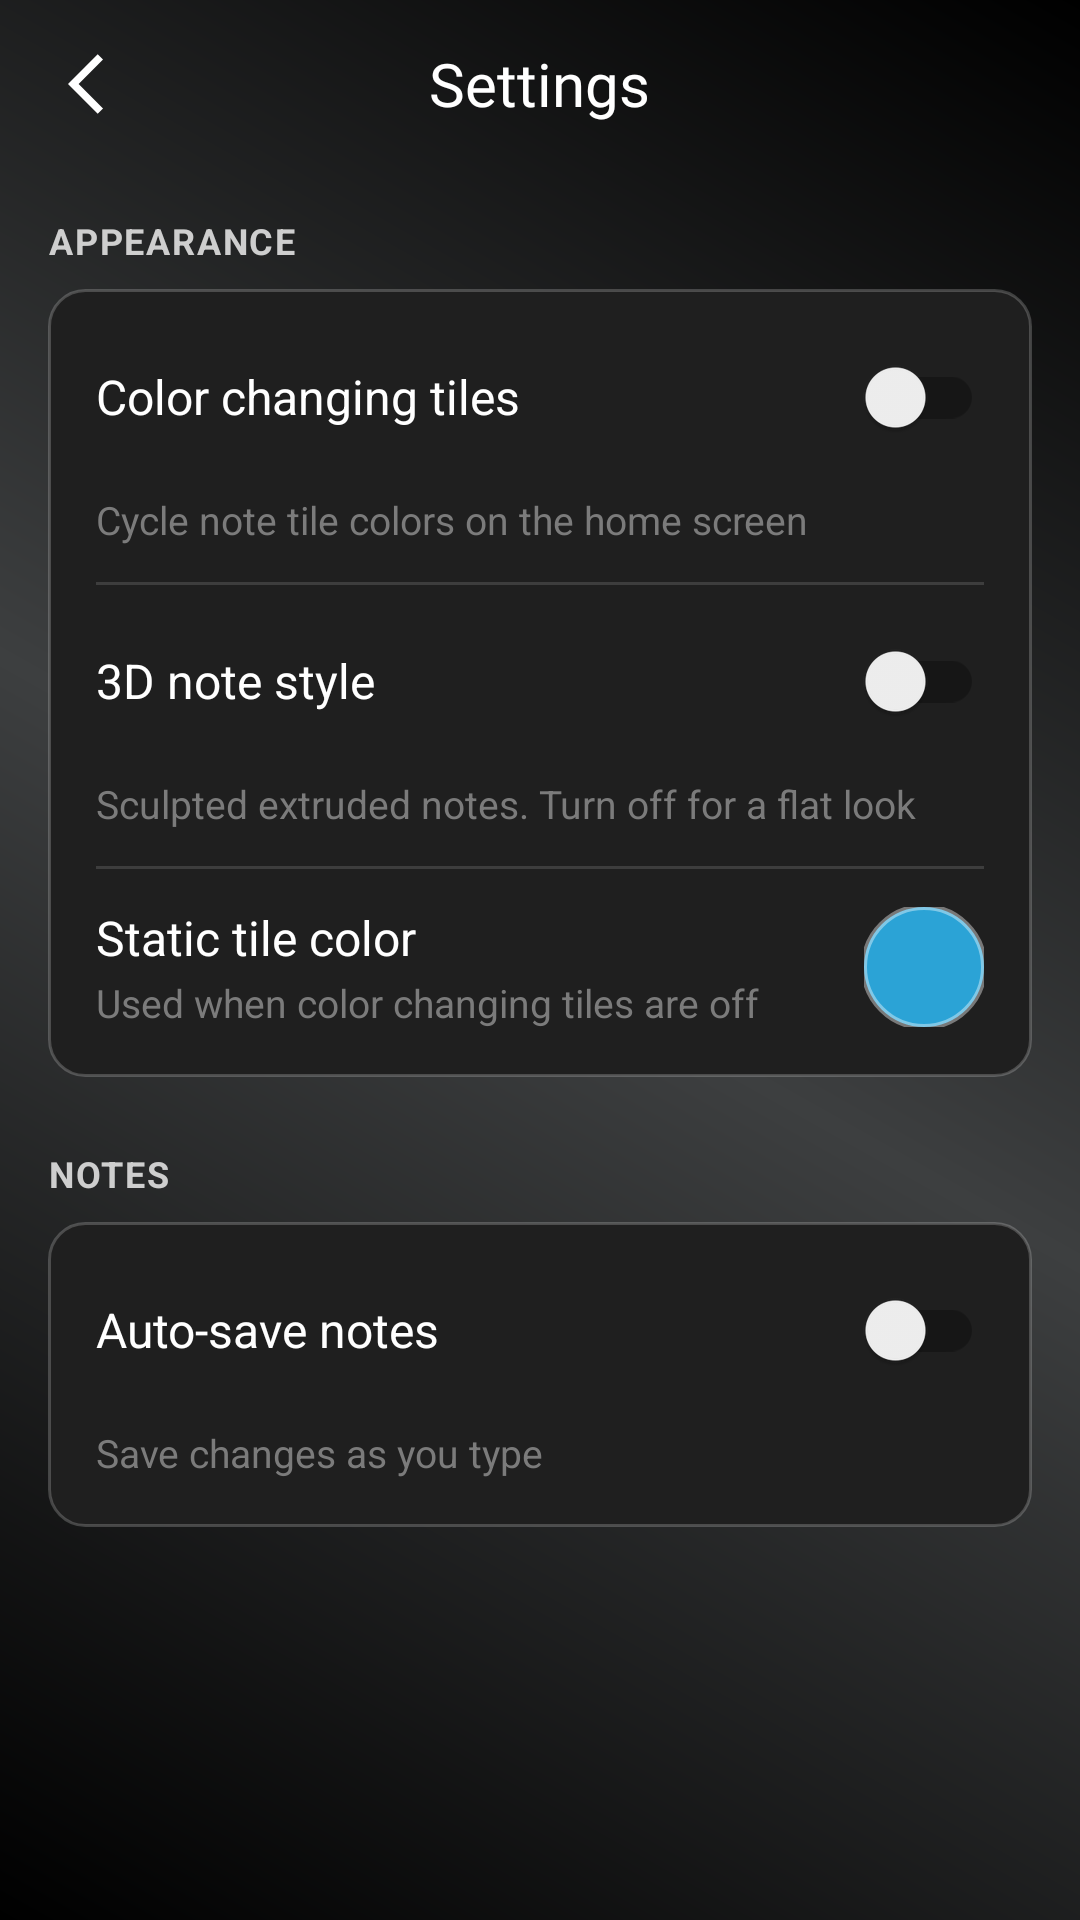

Named icons in this screenshot (1080px×1920px) and their bounding boxes, (x1, y1, x2, y2):
Back: (68, 54, 103, 114)
